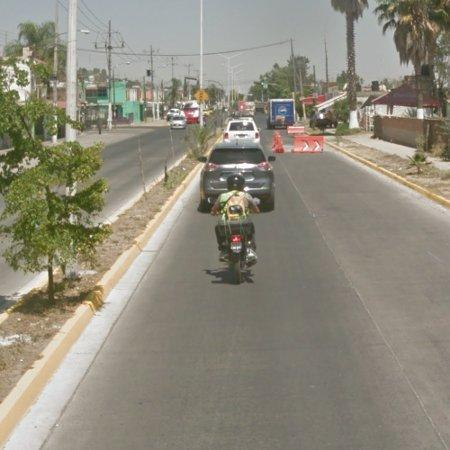motorcycles: (211, 176, 260, 284)
